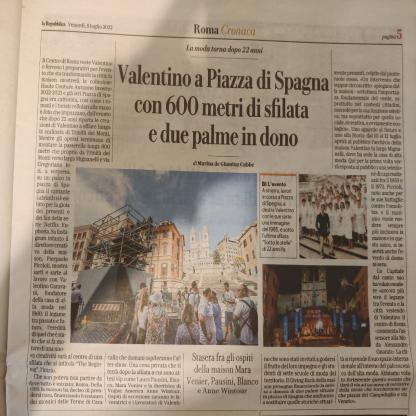immagine: (75, 172, 257, 348), (261, 260, 372, 353), (298, 171, 370, 263)
testo_col: (29, 52, 113, 415), (332, 66, 412, 410), (106, 352, 184, 411), (260, 353, 338, 412)
titolo: (116, 59, 331, 157)
